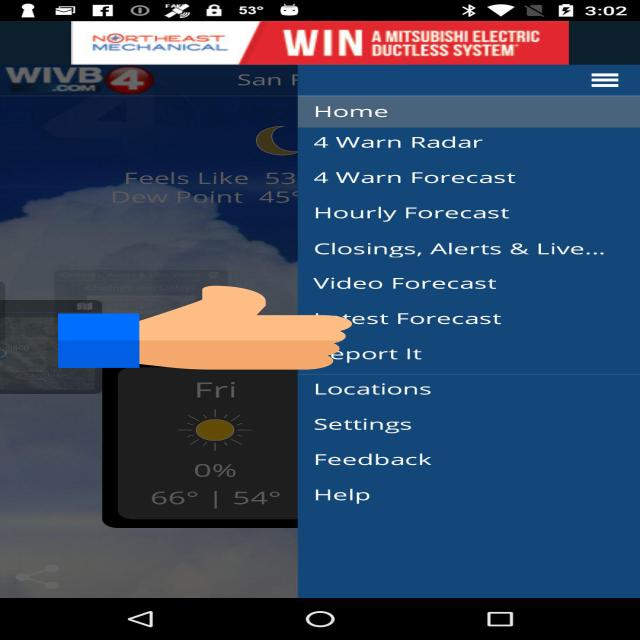privacy zuckering: (58, 284, 352, 372)
